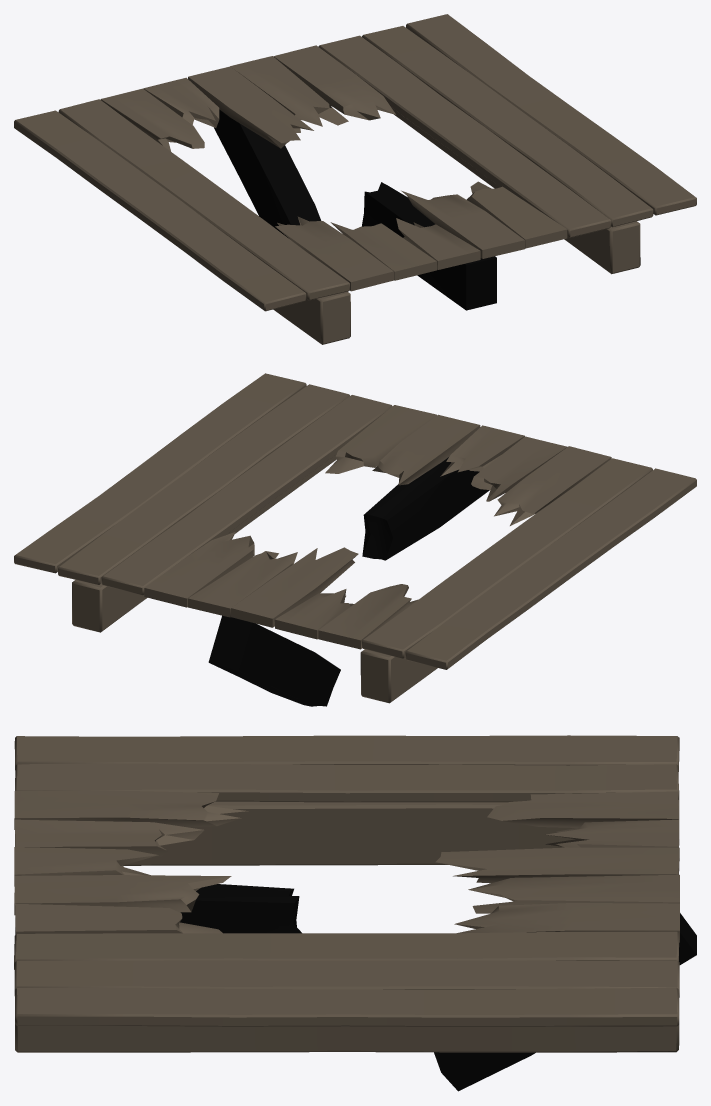
Rendered from decke_kaputt.glb.
The picture shows the model from 3 angles, top to bottom: view 1: azimuth 30°, elevation 25°; view 2: azimuth 150°, elevation 25°; view 3: azimuth 270°, elevation 25°; orthographic projection. The views are drawn at different scales.
Visible parts, largest first — view 1: decke_kaputt; view 2: decke_kaputt; view 3: decke_kaputt.
Boxes of the visible parts, box(x1,y1,x2,y2) form: decke_kaputt: box(14, 14, 696, 344); decke_kaputt: box(14, 373, 696, 706); decke_kaputt: box(14, 735, 696, 1091).
Size of the model in its own units: 2 by 0.6958 by 2.06.
